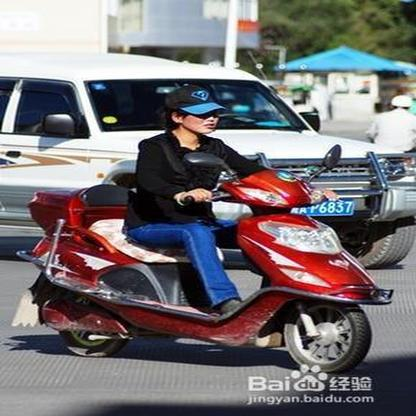target: (25, 85, 388, 373)
